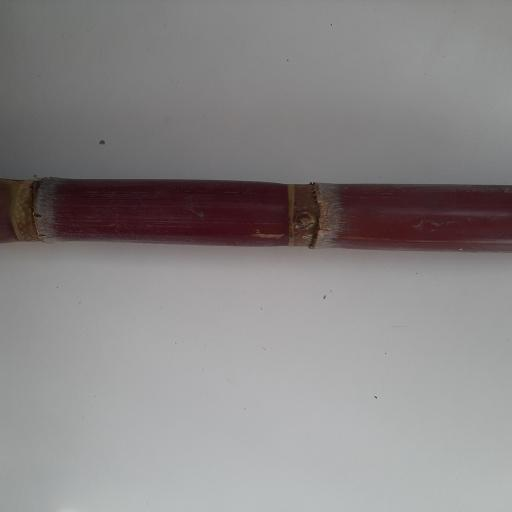Bud: (293, 212, 317, 231)
